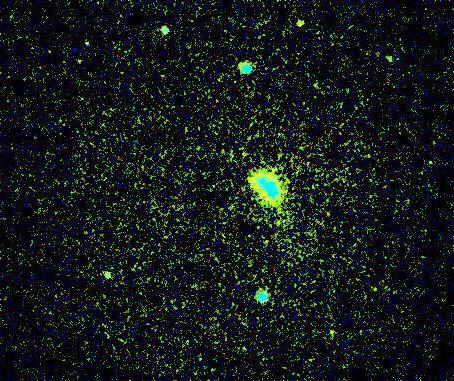star: (286, 6, 316, 36)
